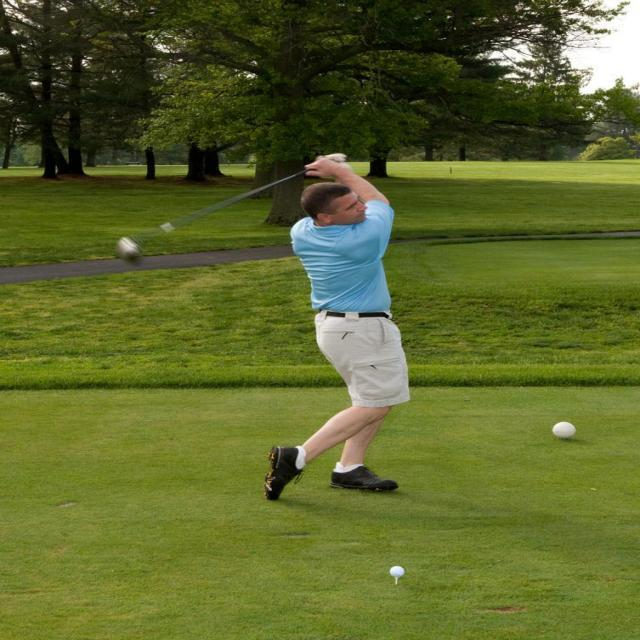GolfBall: (544, 420, 583, 440), (382, 562, 409, 578)
